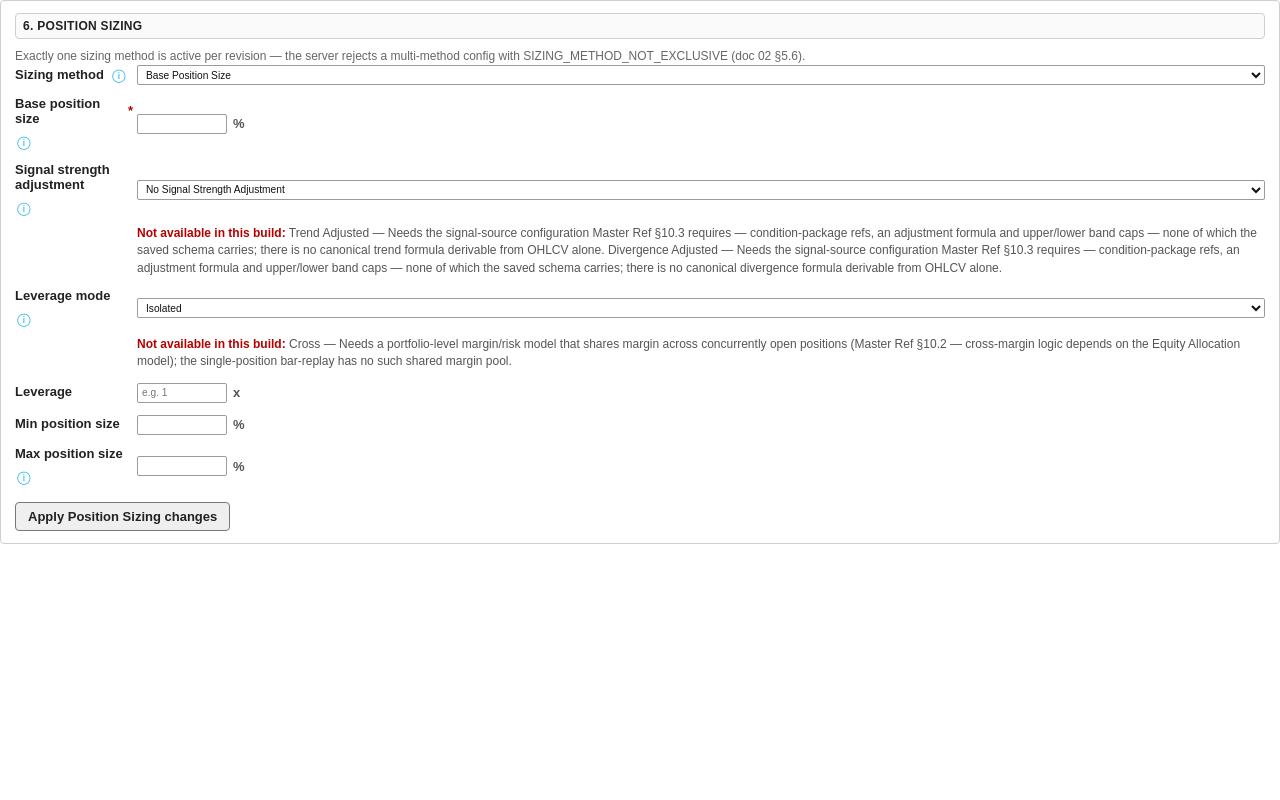
Scenario: PositionSizingCard › swaps sizing sub-fields when the method changes
The image size is (1280, 800).
Expected: the field labelled "Base position size *" is shown, x1=137 y1=114 x2=227 y2=134
Select "Risk Per Trade" in the dropdown labelled "Sizing method" at coordinates (701, 75), box x1=137 y1=65 x2=1265 y2=85
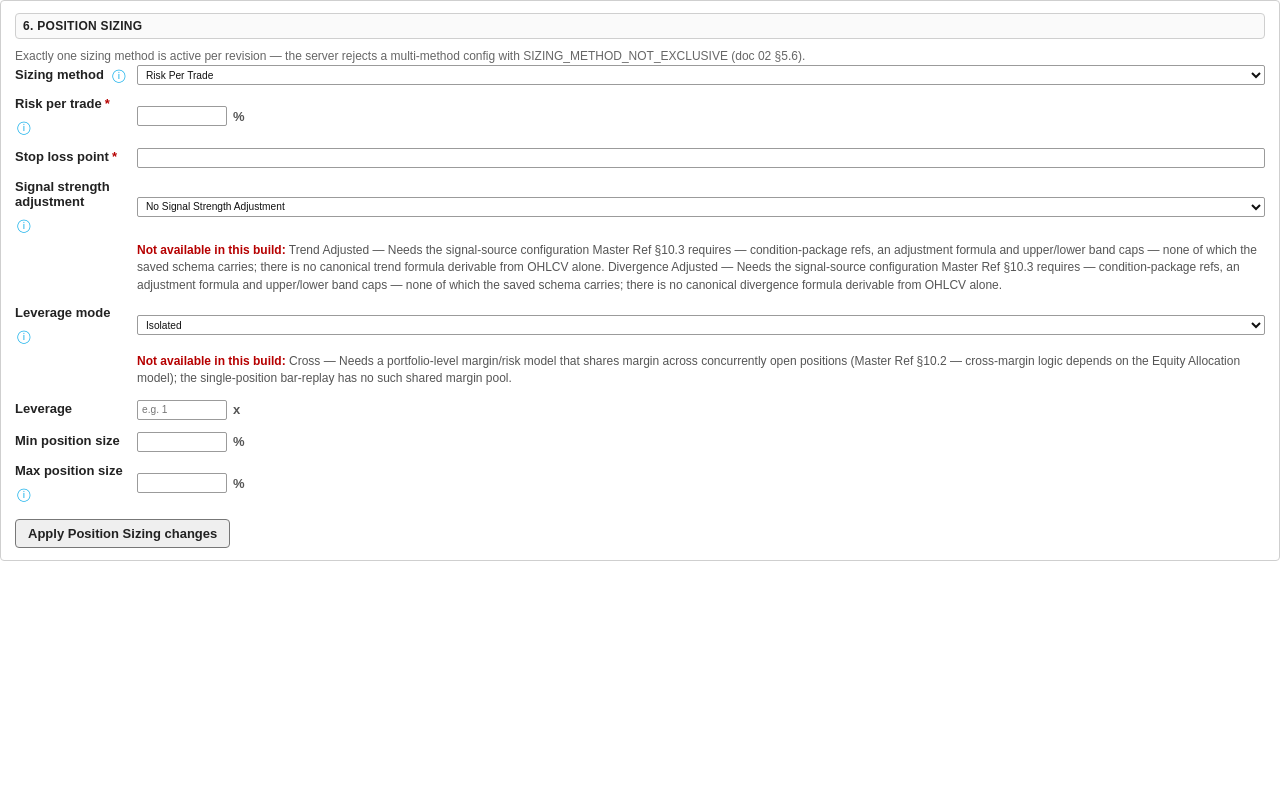
Expected: the field labelled "Risk per trade *" is shown, x1=137 y1=106 x2=227 y2=126
Expected: the label labelled "Base position size" is gone
